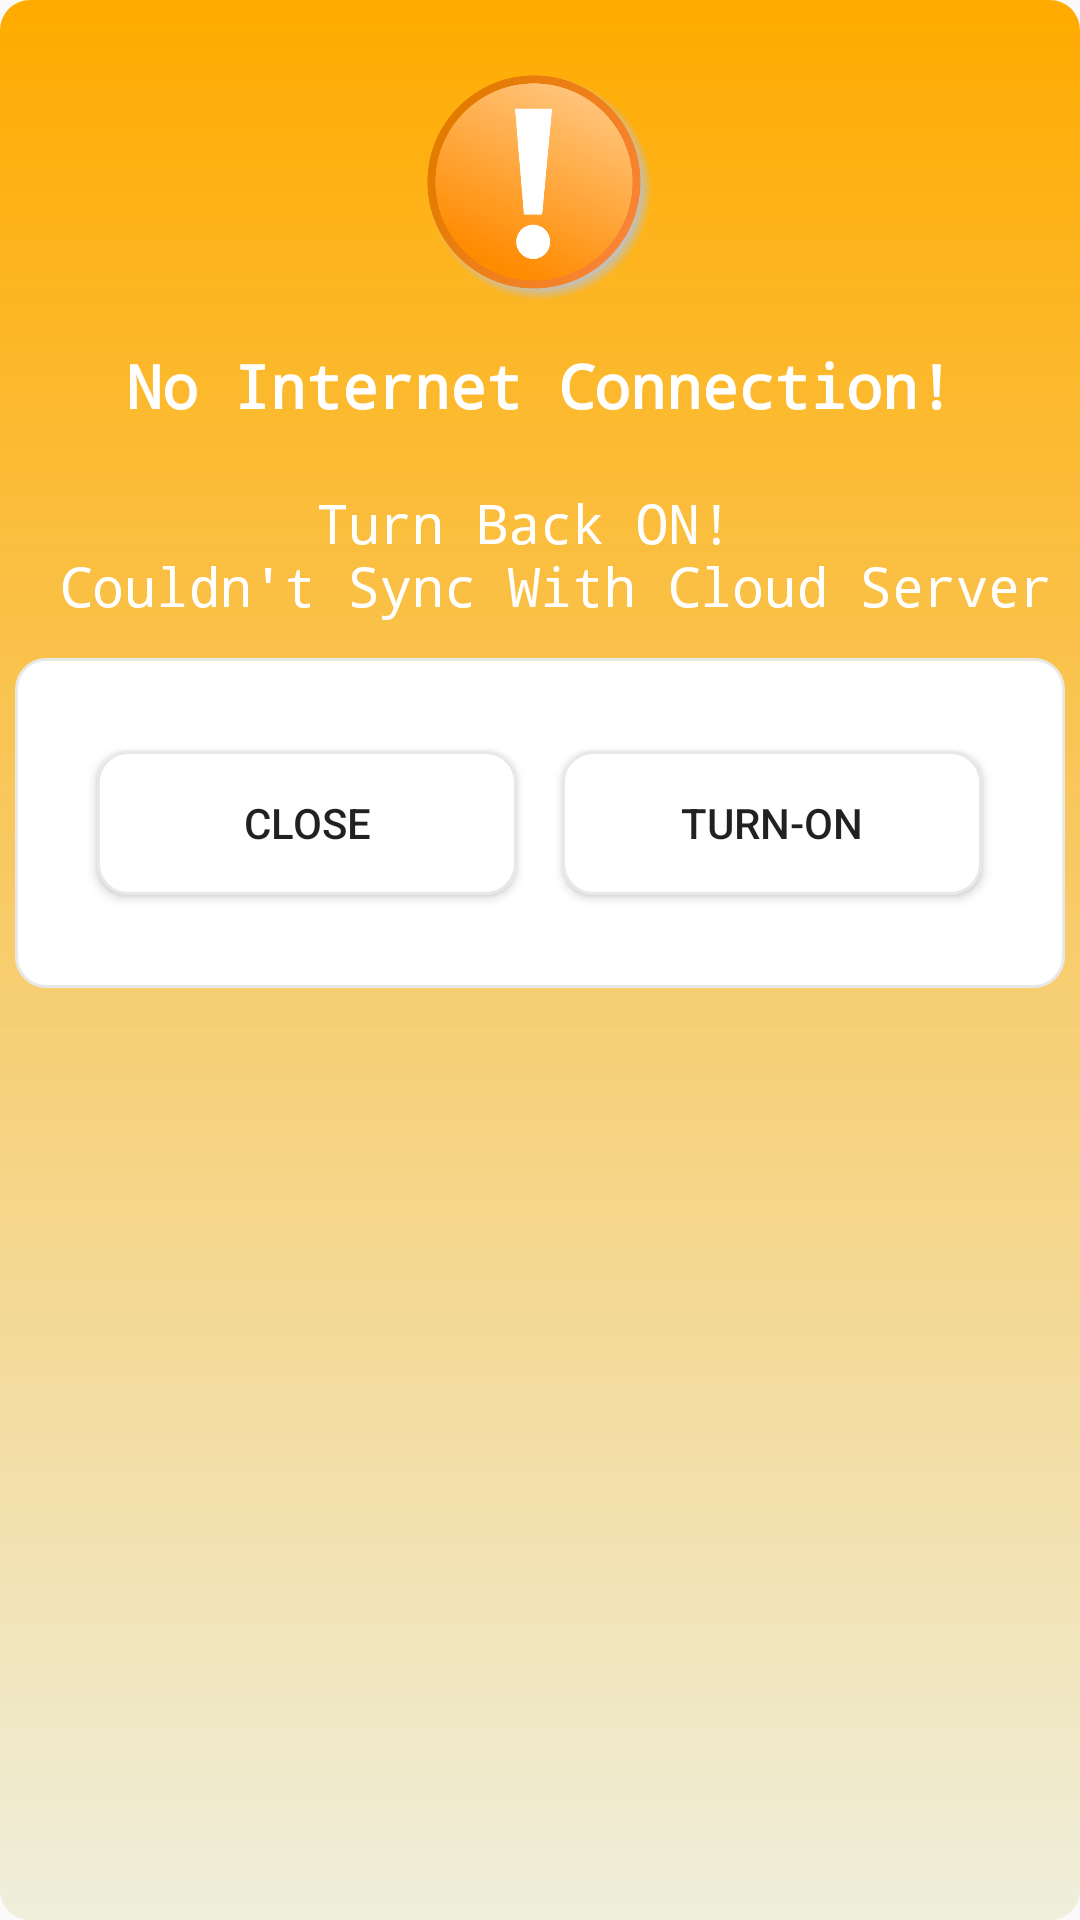

Screen size 1080*1920. Icon name, then its center in pixels as point (x, y):
warning: point (539, 187)
